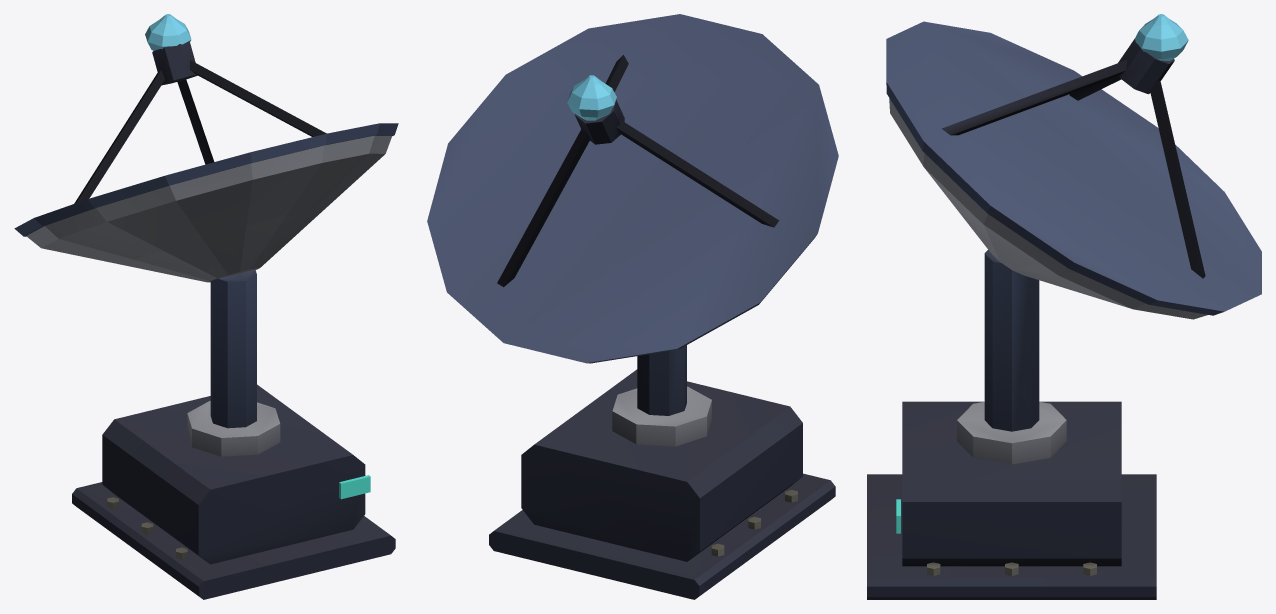
File: sh-orbital.glb
3 renders of one model, left to right at view 1: azimuth 30°, elevation 25°; view 2: azimuth 150°, elevation 25°; view 3: azimuth 270°, elevation 25°, orthographic. The views are drawn at different scales.
Parts seen in each view (by area): view 1: Body, Glow; view 2: Body, Glow; view 3: Body, Glow.
Boxes of the visible parts, x1=… form: Body: x1=14, y1=41, x2=398, y2=599; Glow: x1=145, y1=14, x2=370, y2=499; Body: x1=427, y1=14, x2=838, y2=599; Glow: x1=567, y1=75, x2=616, y2=120; Body: x1=867, y1=21, x2=1261, y2=599; Glow: x1=896, y1=14, x2=1188, y2=533.
Size of the model in its own units: 1.16 by 1.5 by 1.01.
